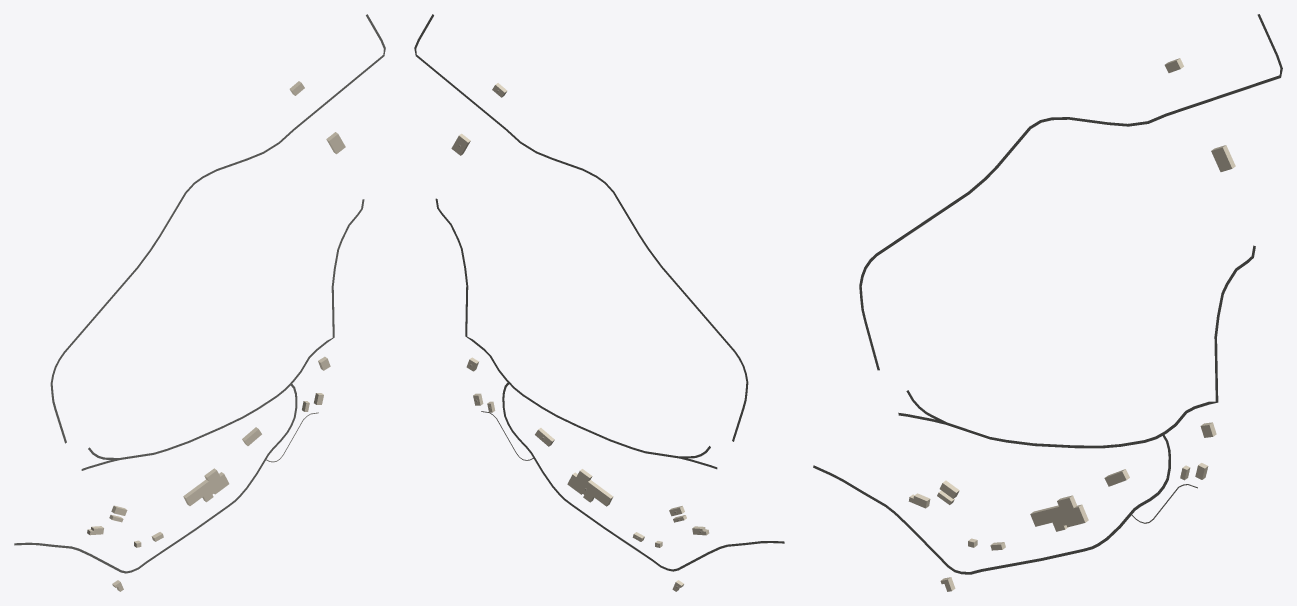
Rendered from historic-palestine-08_26_3497_3201.glb.
3 renders of one model, left to right at view 1: azimuth 30°, elevation 25°; view 2: azimuth 150°, elevation 25°; view 3: azimuth 330°, elevation 25°, orthographic. The views are drawn at different scales.
Visible parts, largest first — view 1: Road .005, Road, Road .001, Building_.002; view 2: Road .005, Road, Road .001, Building_.002; view 3: Road .005, Road, Road .001, Building_.002.
Part boxes in pixels (left/top/right/bottom): Road .005: left=50, top=14, right=385, bottom=443; Road: left=120, top=199, right=364, bottom=459; Road .001: left=14, top=383, right=297, bottom=573; Building_.002: left=183, top=468, right=229, bottom=505; Road .005: left=414, top=14, right=748, bottom=441; Road: left=435, top=198, right=679, bottom=458; Road .001: left=502, top=382, right=784, bottom=571; Building_.002: left=567, top=469, right=613, bottom=506; Road .005: left=859, top=14, right=1282, bottom=370; Road: left=946, top=245, right=1255, bottom=448; Road .001: left=813, top=433, right=1170, bottom=574; Building_.002: left=1030, top=495, right=1088, bottom=531.
Size of the model in its own units: 580 by 772 by 8.7.
